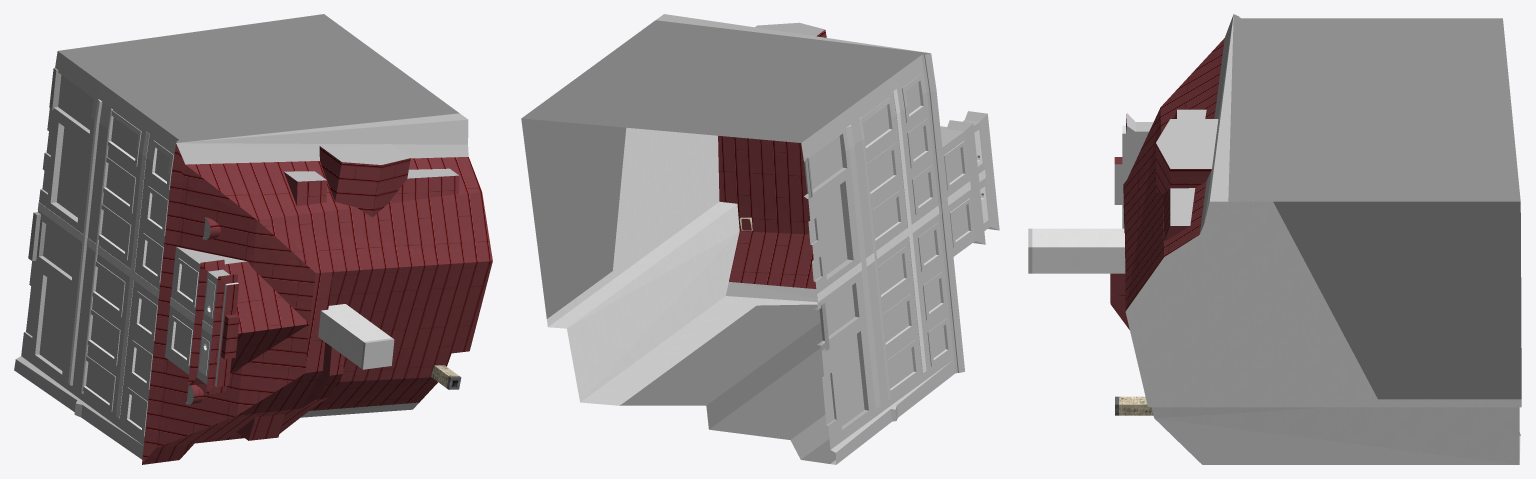
File: Raekoja_Plats_17.obj
The picture shows the model from 3 angles, left to right: view 1: azimuth 30°, elevation 25°; view 2: azimuth 150°, elevation 25°; view 3: azimuth 270°, elevation 25°; orthographic projection. The views are drawn at different scales.
Parts seen in each view (by area): view 1: Raekoja_Plats_17; view 2: Raekoja_Plats_17; view 3: Raekoja_Plats_17.
Boxes of the visible parts, left/top/right/bottom form: Raekoja_Plats_17: left=14, top=14, right=492, bottom=464; Raekoja_Plats_17: left=521, top=14, right=999, bottom=464; Raekoja_Plats_17: left=1028, top=14, right=1521, bottom=464.
Size of the model in its own units: 15.85 by 15.26 by 19.93.
